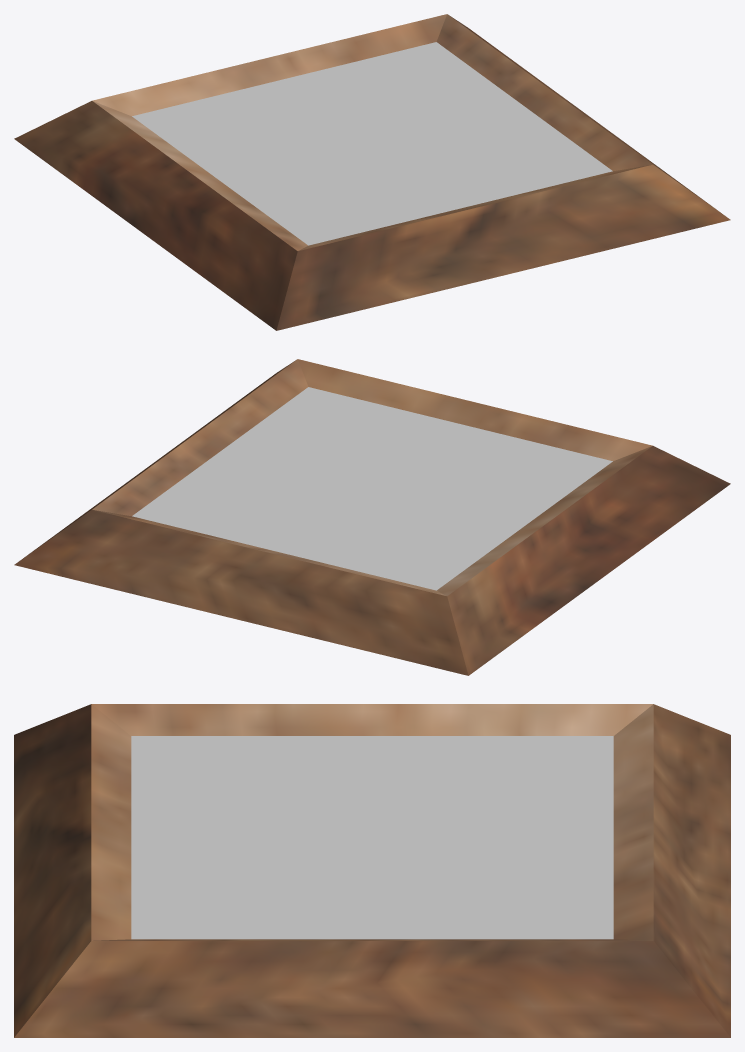
The model's file is PlantSpot.dae.
3 views of the same model, one above another, from view 1: azimuth 30°, elevation 25°; view 2: azimuth 150°, elevation 25°; view 3: azimuth 270°, elevation 25° (orthographic). The views are drawn at different scales.
Parts seen in each view (by area): view 1: Cube; view 2: Cube; view 3: Cube.
Boxes of the visible parts, bbox=[...] form: Cube: bbox=[14, 14, 730, 330]; Cube: bbox=[14, 359, 730, 675]; Cube: bbox=[14, 704, 730, 1037].
Bounding box in the file's own units: 5 × 5 × 0.492.
